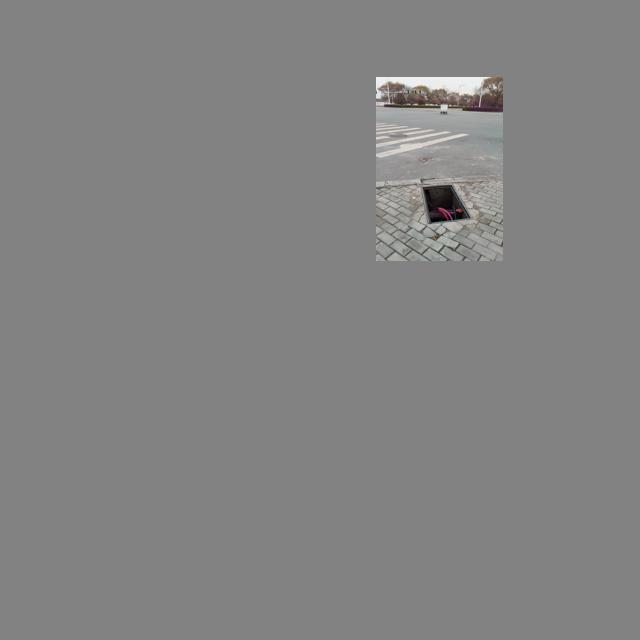lose: (421, 184, 474, 224)
